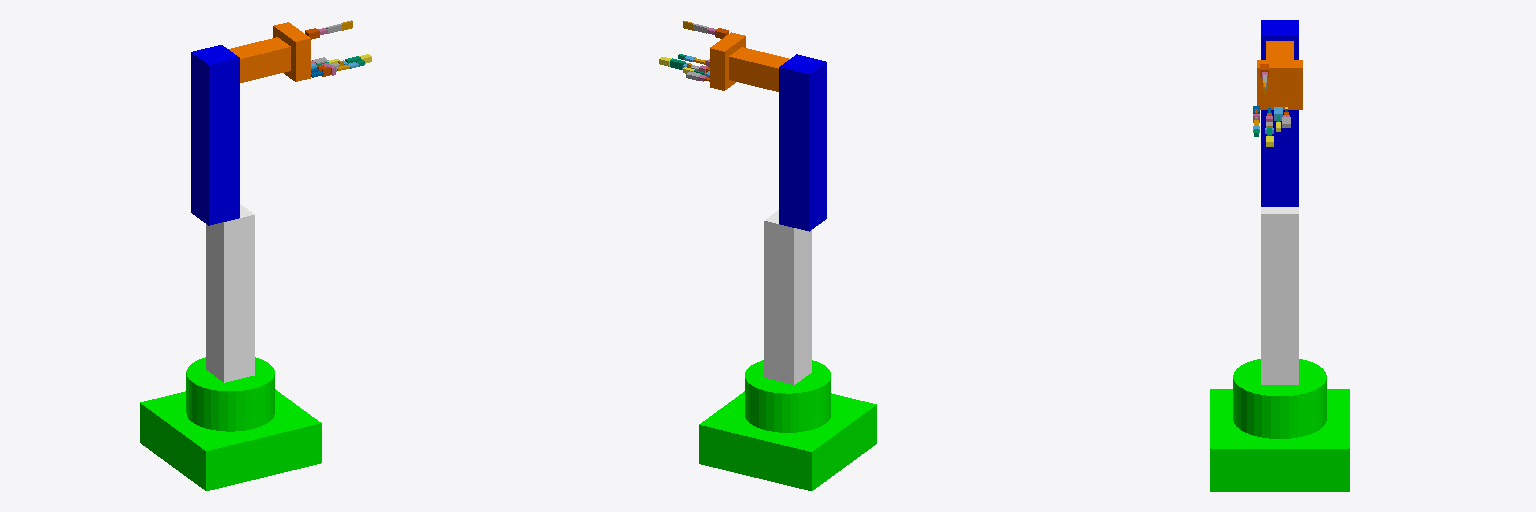
URDF robot description (robot):
<?xml version='1.0' encoding='utf-8'?>
<robot name="robot">
  <link name="base_link">
    <visual>
      <origin xyz="0 0 0.125" rpy="0 0 0" />
      <geometry>
        <box size="0.75 0.75 0.25" />
      </geometry>
      <material name="green" />
    </visual>
    <visual>
      <origin xyz="0 0 0.375" rpy="0 0 0" />
      <geometry>
        <cylinder length="0.25" radius="0.25" />
      </geometry>
      <material name="green">
        <color rgba="0 1 0 1" />
      </material>
    </visual>
    <collision>
      <geometry>
        <box size="0.75 0.75 0.5" />
      </geometry>
    </collision>
    <inertial>
      <mass value="0.5" />
      <inertia ixx="0.034" ixy="0.0" ixz="0.0" iyy="0.034" iyz="0.0" izz="0.034" />
    </inertial>
  </link>
  <link name="support_link">
    <visual>
      <origin xyz="0 0 0.5" rpy="0 0 0" />
      <geometry>
        <box size="0.2 0.2 1" />
      </geometry>
      <material name="white">
        <color rgba="1 1 1 1" />
      </material>
    </visual>
    <collision>
      <geometry>
        <box size="0.2 0.2 1" />
      </geometry>
    </collision>
    <inertial>
      <mass value="0.1" />
      <inertia ixx="0.01" ixy="0.0" ixz="0.0" iyy="0.01" iyz="0.0" izz="0.01" />
    </inertial>
  </link>
  <joint name="support_joint" type="continuous">
    <origin xyz="0 0 0.5" rpy="0 0 0" />
    <parent link="base_link" />
    <child link="support_link" />
    <axis xyz="0 0 1" />
  </joint>
  <link name="arm_link">
    <visual>
      <origin xyz="0 0 0.5" rpy="0 0 0" />
      <geometry>
        <box size="0.2 0.2 1" />
      </geometry>
      <material name="blue">
        <color rgba="0 0 1 1" />
      </material>
    </visual>
    <collision>
      <geometry>
        <box size="0.2 0.2 1" />
      </geometry>
    </collision>
    <inertial>
      <mass value="0.1" />
      <inertia ixx="0.01" ixy="0.0" ixz="0.0" iyy="0.01" iyz="0.0" izz="0.01" />
    </inertial>
  </link>
  <joint name="arm_joint" type="revolute">
    <origin xyz="-0.1 0 1" rpy="0 0 0" />
    <parent link="support_link" />
    <child link="arm_link" />
    <axis xyz="0 1 0" />
    <limit lower="-3.14" upper="3.14" effort="1.0" velocity="1.0" />
  </joint>
  <link name="wrist_link">
    <visual>
      <origin xyz="0 0 0.25" rpy="0 0 0" />
      <geometry>
        <box size="0.15 0.15 0.5" />
      </geometry>
      <material name="orange">
        <color rgba="1 0.5 0 1" />
      </material>
    </visual>
    <collision>
      <geometry>
        <box size="0.15 0.15 0.5" />
      </geometry>
    </collision>
    <inertial>
      <mass value="0.1" />
      <inertia ixx="0.01" ixy="0.0" ixz="0.0" iyy="0.01" iyz="0.0" izz="0.01" />
    </inertial>
  </link>
  <joint name="wrist_joint" type="fixed">
    <origin xyz="0 0 0.9" rpy="0 1.571 0" />
    <parent link="arm_link" />
    <child link="wrist_link" />
  </joint>
  <link name="palm_link">
    <visual>
      <origin xyz="0 0 0.05" rpy="0 0 0" />
      <geometry>
        <box size="0.25 0.25 0.1" />
      </geometry>
      <material name="orange" />
    </visual>
    <collision>
      <geometry>
        <box size="0.25 0.25 0.1" />
      </geometry>
    </collision>
    <inertial>
      <mass value="0.1" />
      <inertia ixx="0.01" ixy="0.0" ixz="0.0" iyy="0.01" iyz="0.0" izz="0.01" />
    </inertial>
  </link>
  <joint name="palm_joint" type="fixed">
    <origin xyz="0 0 0.45" rpy="0 0 0" />
    <parent link="wrist_link" />
    <child link="palm_link" />
  </joint>
  <link name="finger_link_0_0">
    <visual>
      <origin xyz="0 0 0.035" rpy="0 0 0" />
      <geometry>
        <box size="0.04 0.048 0.07" />
      </geometry>
    </visual>
    <collision>
      <geometry>
        <box size="0.04 0.048 0.07" />
      </geometry>
    </collision>
    <inertial>
      <mass value="0.04" />
      <inertia ixx="0.0" iyy="0.0" izz="0.0" ixy="0" ixz="0" iyz="0" />
    </inertial>
  </link>
  <joint name="finger_joint_palm_link_to_finger_link_0_0" type="revolute">
    <origin xyz="-0.125 -0.081 0.1" rpy="0 0 0" />
    <parent link="palm_link" />
    <child link="finger_link_0_0" />
    <axis xyz="0.0 -1.0 0.0" />
    <limit lower="-3.142" upper="3.142" effort="10" velocity="10" />
  </joint>
  <link name="finger_link_0_1">
    <visual>
      <origin xyz="0 0 0.0295" rpy="0 0 0" />
      <geometry>
        <box size="0.022 0.034 0.059" />
      </geometry>
    </visual>
    <collision>
      <geometry>
        <box size="0.022 0.034 0.059" />
      </geometry>
    </collision>
    <inertial>
      <mass value="0.013" />
      <inertia ixx="0.0" iyy="0.0" izz="0.0" ixy="0" ixz="0" iyz="0" />
    </inertial>
  </link>
  <joint name="finger_joint_finger_link_0_0_to_finger_link_0_1" type="revolute">
    <origin xyz="0.0 0.0 0.07" rpy="0 0 0" />
    <parent link="finger_link_0_0" />
    <child link="finger_link_0_1" />
    <axis xyz="1.0 0.0 0.0" />
    <limit lower="-3.142" upper="3.142" effort="10" velocity="10" />
  </joint>
  <link name="finger_link_0_2">
    <visual>
      <origin xyz="0 0 0.047" rpy="0 0 0" />
      <geometry>
        <box size="0.035 0.019 0.094" />
      </geometry>
    </visual>
    <collision>
      <geometry>
        <box size="0.035 0.019 0.094" />
      </geometry>
    </collision>
    <inertial>
      <mass value="0.019" />
      <inertia ixx="0.0" iyy="0.0" izz="0.0" ixy="0" ixz="0" iyz="0" />
    </inertial>
  </link>
  <joint name="finger_joint_finger_link_0_1_to_finger_link_0_2" type="revolute">
    <origin xyz="0.0 0.0 0.059" rpy="0 0 0" />
    <parent link="finger_link_0_1" />
    <child link="finger_link_0_2" />
    <axis xyz="1.0 0.0 0.0" />
    <limit lower="-3.142" upper="3.142" effort="10" velocity="10" />
  </joint>
  <link name="finger_link_0_3">
    <visual>
      <origin xyz="0 0 0.035" rpy="0 0 0" />
      <geometry>
        <box size="0.044 0.012 0.07" />
      </geometry>
    </visual>
    <collision>
      <geometry>
        <box size="0.044 0.012 0.07" />
      </geometry>
    </collision>
    <inertial>
      <mass value="0.011" />
      <inertia ixx="0.0" iyy="0.0" izz="0.0" ixy="0" ixz="0" iyz="0" />
    </inertial>
  </link>
  <joint name="finger_joint_finger_link_0_2_to_finger_link_0_3" type="revolute">
    <origin xyz="0.0 0.0 0.094" rpy="0 0 0" />
    <parent link="finger_link_0_2" />
    <child link="finger_link_0_3" />
    <axis xyz="1.0 0.0 0.0" />
    <limit lower="-3.142" upper="3.142" effort="10" velocity="10" />
  </joint>
  <link name="finger_link_1_0">
    <visual>
      <origin xyz="0 0 0.0475" rpy="0 0 0" />
      <geometry>
        <box size="0.041 0.044 0.095" />
      </geometry>
    </visual>
    <collision>
      <geometry>
        <box size="0.041 0.044 0.095" />
      </geometry>
    </collision>
    <inertial>
      <mass value="0.051" />
      <inertia ixx="0.0" iyy="0.0" izz="0.0" ixy="0" ixz="0" iyz="0" />
    </inertial>
  </link>
  <joint name="finger_joint_palm_link_to_finger_link_1_0" type="revolute">
    <origin xyz="0.125 -0.008 0.1" rpy="0 0 0" />
    <parent link="palm_link" />
    <child link="finger_link_1_0" />
    <axis xyz="0.0 1.0 0.0" />
    <limit lower="-3.142" upper="3.142" effort="10" velocity="10" />
  </joint>
  <link name="finger_link_1_1">
    <visual>
      <origin xyz="0 0 0.0425" rpy="0 0 0" />
      <geometry>
        <box size="0.024 0.012 0.085" />
      </geometry>
    </visual>
    <collision>
      <geometry>
        <box size="0.024 0.012 0.085" />
      </geometry>
    </collision>
    <inertial>
      <mass value="0.007" />
      <inertia ixx="0.0" iyy="0.0" izz="0.0" ixy="0" ixz="0" iyz="0" />
    </inertial>
  </link>
  <joint name="finger_joint_finger_link_1_0_to_finger_link_1_1" type="revolute">
    <origin xyz="0.0 0.0 0.095" rpy="0 0 0" />
    <parent link="finger_link_1_0" />
    <child link="finger_link_1_1" />
    <axis xyz="1.0 0.0 0.0" />
    <limit lower="-3.142" upper="3.142" effort="10" velocity="10" />
  </joint>
  <link name="finger_link_1_2">
    <visual>
      <origin xyz="0 0 0.034" rpy="0 0 0" />
      <geometry>
        <box size="0.026 0.027 0.068" />
      </geometry>
    </visual>
    <collision>
      <geometry>
        <box size="0.026 0.027 0.068" />
      </geometry>
    </collision>
    <inertial>
      <mass value="0.014" />
      <inertia ixx="0.0" iyy="0.0" izz="0.0" ixy="0" ixz="0" iyz="0" />
    </inertial>
  </link>
  <joint name="finger_joint_finger_link_1_1_to_finger_link_1_2" type="revolute">
    <origin xyz="0.0 0.0 0.085" rpy="0 0 0" />
    <parent link="finger_link_1_1" />
    <child link="finger_link_1_2" />
    <axis xyz="0.0 1.0 0.0" />
    <limit lower="-3.142" upper="3.142" effort="10" velocity="10" />
  </joint>
  <link name="finger_link_2_0">
    <visual>
      <origin xyz="0 0 0.0435" rpy="0 0 0" />
      <geometry>
        <box size="0.028 0.018 0.087" />
      </geometry>
    </visual>
    <collision>
      <geometry>
        <box size="0.028 0.018 0.087" />
      </geometry>
    </collision>
    <inertial>
      <mass value="0.013" />
      <inertia ixx="0.0" iyy="0.0" izz="0.0" ixy="0" ixz="0" iyz="0" />
    </inertial>
  </link>
  <joint name="finger_joint_palm_link_to_finger_link_2_0" type="revolute">
    <origin xyz="0.125 -0.055 0.1" rpy="0 0 0" />
    <parent link="palm_link" />
    <child link="finger_link_2_0" />
    <axis xyz="0.0 1.0 0.0" />
    <limit lower="-3.142" upper="3.142" effort="10" velocity="10" />
  </joint>
  <link name="finger_link_2_1">
    <visual>
      <origin xyz="0 0 0.018" rpy="0 0 0" />
      <geometry>
        <box size="0.045 0.026 0.036" />
      </geometry>
    </visual>
    <collision>
      <geometry>
        <box size="0.045 0.026 0.036" />
      </geometry>
    </collision>
    <inertial>
      <mass value="0.013" />
      <inertia ixx="0.0" iyy="0.0" izz="0.0" ixy="0" ixz="0" iyz="0" />
    </inertial>
  </link>
  <joint name="finger_joint_finger_link_2_0_to_finger_link_2_1" type="revolute">
    <origin xyz="0.0 0.0 0.087" rpy="0 0 0" />
    <parent link="finger_link_2_0" />
    <child link="finger_link_2_1" />
    <axis xyz="0.0 1.0 0.0" />
    <limit lower="-3.142" upper="3.142" effort="10" velocity="10" />
  </joint>
  <link name="finger_link_2_2">
    <visual>
      <origin xyz="0 0 0.02" rpy="0 0 0" />
      <geometry>
        <box size="0.047 0.037 0.04" />
      </geometry>
    </visual>
    <collision>
      <geometry>
        <box size="0.047 0.037 0.04" />
      </geometry>
    </collision>
    <inertial>
      <mass value="0.021" />
      <inertia ixx="0.0" iyy="0.0" izz="0.0" ixy="0" ixz="0" iyz="0" />
    </inertial>
  </link>
  <joint name="finger_joint_finger_link_2_1_to_finger_link_2_2" type="revolute">
    <origin xyz="0.0 0.0 0.036" rpy="0 0 0" />
    <parent link="finger_link_2_1" />
    <child link="finger_link_2_2" />
    <axis xyz="0.0 1.0 0.0" />
    <limit lower="-3.142" upper="3.142" effort="10" velocity="10" />
  </joint>
  <link name="finger_link_2_3">
    <visual>
      <origin xyz="0 0 0.031" rpy="0 0 0" />
      <geometry>
        <box size="0.021 0.035 0.062" />
      </geometry>
    </visual>
    <collision>
      <geometry>
        <box size="0.021 0.035 0.062" />
      </geometry>
    </collision>
    <inertial>
      <mass value="0.014" />
      <inertia ixx="0.0" iyy="0.0" izz="0.0" ixy="0" ixz="0" iyz="0" />
    </inertial>
  </link>
  <joint name="finger_joint_finger_link_2_2_to_finger_link_2_3" type="revolute">
    <origin xyz="0.0 0.0 0.04" rpy="0 0 0" />
    <parent link="finger_link_2_2" />
    <child link="finger_link_2_3" />
    <axis xyz="1.0 0.0 0.0" />
    <limit lower="-3.142" upper="3.142" effort="10" velocity="10" />
  </joint>
  <link name="finger_link_2_4">
    <visual>
      <origin xyz="0 0 0.0115" rpy="0 0 0" />
      <geometry>
        <box size="0.043 0.018 0.023" />
      </geometry>
    </visual>
    <collision>
      <geometry>
        <box size="0.043 0.018 0.023" />
      </geometry>
    </collision>
    <inertial>
      <mass value="0.005" />
      <inertia ixx="0.0" iyy="0.0" izz="0.0" ixy="0" ixz="0" iyz="0" />
    </inertial>
  </link>
  <joint name="finger_joint_finger_link_2_3_to_finger_link_2_4" type="revolute">
    <origin xyz="0.0 0.0 0.062" rpy="0 0 0" />
    <parent link="finger_link_2_3" />
    <child link="finger_link_2_4" />
    <axis xyz="0.0 1.0 0.0" />
    <limit lower="-3.142" upper="3.142" effort="10" velocity="10" />
  </joint>
  <link name="finger_link_2_5">
    <visual>
      <origin xyz="0 0 0.011" rpy="0 0 0" />
      <geometry>
        <box size="0.024 0.048 0.022" />
      </geometry>
    </visual>
    <collision>
      <geometry>
        <box size="0.024 0.048 0.022" />
      </geometry>
    </collision>
    <inertial>
      <mass value="0.008" />
      <inertia ixx="0.0" iyy="0.0" izz="0.0" ixy="0" ixz="0" iyz="0" />
    </inertial>
  </link>
  <joint name="finger_joint_finger_link_2_4_to_finger_link_2_5" type="revolute">
    <origin xyz="0.0 0.0 0.023" rpy="0 0 0" />
    <parent link="finger_link_2_4" />
    <child link="finger_link_2_5" />
    <axis xyz="0.0 1.0 0.0" />
    <limit lower="-3.142" upper="3.142" effort="10" velocity="10" />
  </joint>
  <link name="finger_link_2_6">
    <visual>
      <origin xyz="0 0 0.0445" rpy="0 0 0" />
      <geometry>
        <box size="0.044 0.03 0.089" />
      </geometry>
    </visual>
    <collision>
      <geometry>
        <box size="0.044 0.03 0.089" />
      </geometry>
    </collision>
    <inertial>
      <mass value="0.035" />
      <inertia ixx="0.0" iyy="0.0" izz="0.0" ixy="0" ixz="0" iyz="0" />
    </inertial>
  </link>
  <joint name="finger_joint_finger_link_2_5_to_finger_link_2_6" type="revolute">
    <origin xyz="0.0 0.0 0.022" rpy="0 0 0" />
    <parent link="finger_link_2_5" />
    <child link="finger_link_2_6" />
    <axis xyz="1.0 0.0 0.0" />
    <limit lower="-3.142" upper="3.142" effort="10" velocity="10" />
  </joint>
  <link name="finger_link_2_7">
    <visual>
      <origin xyz="0 0 0.0345" rpy="0 0 0" />
      <geometry>
        <box size="0.033 0.041 0.069" />
      </geometry>
    </visual>
    <collision>
      <geometry>
        <box size="0.033 0.041 0.069" />
      </geometry>
    </collision>
    <inertial>
      <mass value="0.028" />
      <inertia ixx="0.0" iyy="0.0" izz="0.0" ixy="0" ixz="0" iyz="0" />
    </inertial>
  </link>
  <joint name="finger_joint_finger_link_2_6_to_finger_link_2_7" type="revolute">
    <origin xyz="0.0 0.0 0.089" rpy="0 0 0" />
    <parent link="finger_link_2_6" />
    <child link="finger_link_2_7" />
    <axis xyz="0.0 1.0 0.0" />
    <limit lower="-3.142" upper="3.142" effort="10" velocity="10" />
  </joint>
  <link name="finger_link_3_0">
    <visual>
      <origin xyz="0 0 0.038" rpy="0 0 0" />
      <geometry>
        <box size="0.014 0.034 0.076" />
      </geometry>
    </visual>
    <collision>
      <geometry>
        <box size="0.014 0.034 0.076" />
      </geometry>
    </collision>
    <inertial>
      <mass value="0.011" />
      <inertia ixx="0.0" iyy="0.0" izz="0.0" ixy="0" ixz="0" iyz="0" />
    </inertial>
  </link>
  <joint name="finger_joint_palm_link_to_finger_link_3_0" type="revolute">
    <origin xyz="0.108 -0.125 0.1" rpy="0 0 0" />
    <parent link="palm_link" />
    <child link="finger_link_3_0" />
    <axis xyz="1.0 0.0 0.0" />
    <limit lower="-3.142" upper="3.142" effort="10" velocity="10" />
  </joint>
  <link name="finger_link_3_1">
    <visual>
      <origin xyz="0 0 0.0255" rpy="0 0 0" />
      <geometry>
        <box size="0.049 0.011 0.051" />
      </geometry>
    </visual>
    <collision>
      <geometry>
        <box size="0.049 0.011 0.051" />
      </geometry>
    </collision>
    <inertial>
      <mass value="0.008" />
      <inertia ixx="0.0" iyy="0.0" izz="0.0" ixy="0" ixz="0" iyz="0" />
    </inertial>
  </link>
  <joint name="finger_joint_finger_link_3_0_to_finger_link_3_1" type="revolute">
    <origin xyz="0.0 0.0 0.076" rpy="0 0 0" />
    <parent link="finger_link_3_0" />
    <child link="finger_link_3_1" />
    <axis xyz="1.0 0.0 0.0" />
    <limit lower="-3.142" upper="3.142" effort="10" velocity="10" />
  </joint>
  <link name="finger_link_3_2">
    <visual>
      <origin xyz="0 0 0.013" rpy="0 0 0" />
      <geometry>
        <box size="0.044 0.041 0.026" />
      </geometry>
    </visual>
    <collision>
      <geometry>
        <box size="0.044 0.041 0.026" />
      </geometry>
    </collision>
    <inertial>
      <mass value="0.014" />
      <inertia ixx="0.0" iyy="0.0" izz="0.0" ixy="0" ixz="0" iyz="0" />
    </inertial>
  </link>
  <joint name="finger_joint_finger_link_3_1_to_finger_link_3_2" type="revolute">
    <origin xyz="0.0 0.0 0.051" rpy="0 0 0" />
    <parent link="finger_link_3_1" />
    <child link="finger_link_3_2" />
    <axis xyz="1.0 0.0 0.0" />
    <limit lower="-3.142" upper="3.142" effort="10" velocity="10" />
  </joint>
  <link name="finger_link_3_3">
    <visual>
      <origin xyz="0 0 0.008" rpy="0 0 0" />
      <geometry>
        <box size="0.03 0.011 0.016" />
      </geometry>
    </visual>
    <collision>
      <geometry>
        <box size="0.03 0.011 0.016" />
      </geometry>
    </collision>
    <inertial>
      <mass value="0.002" />
      <inertia ixx="0.0" iyy="0.0" izz="0.0" ixy="0" ixz="0" iyz="0" />
    </inertial>
  </link>
  <joint name="finger_joint_finger_link_3_2_to_finger_link_3_3" type="revolute">
    <origin xyz="0.0 0.0 0.026" rpy="0 0 0" />
    <parent link="finger_link_3_2" />
    <child link="finger_link_3_3" />
    <axis xyz="0.0 1.0 0.0" />
    <limit lower="-3.142" upper="3.142" effort="10" velocity="10" />
  </joint>
  <link name="finger_link_3_4">
    <visual>
      <origin xyz="0 0 0.039" rpy="0 0 0" />
      <geometry>
        <box size="0.012 0.029 0.078" />
      </geometry>
    </visual>
    <collision>
      <geometry>
        <box size="0.012 0.029 0.078" />
      </geometry>
    </collision>
    <inertial>
      <mass value="0.008" />
      <inertia ixx="0.0" iyy="0.0" izz="0.0" ixy="0" ixz="0" iyz="0" />
    </inertial>
  </link>
  <joint name="finger_joint_finger_link_3_3_to_finger_link_3_4" type="revolute">
    <origin xyz="0.0 0.0 0.016" rpy="0 0 0" />
    <parent link="finger_link_3_3" />
    <child link="finger_link_3_4" />
    <axis xyz="1.0 0.0 0.0" />
    <limit lower="-3.142" upper="3.142" effort="10" velocity="10" />
  </joint>
  <link name="finger_link_3_5">
    <visual>
      <origin xyz="0 0 0.0275" rpy="0 0 0" />
      <geometry>
        <box size="0.014 0.04 0.055" />
      </geometry>
    </visual>
    <collision>
      <geometry>
        <box size="0.014 0.04 0.055" />
      </geometry>
    </collision>
    <inertial>
      <mass value="0.009" />
      <inertia ixx="0.0" iyy="0.0" izz="0.0" ixy="0" ixz="0" iyz="0" />
    </inertial>
  </link>
  <joint name="finger_joint_finger_link_3_4_to_finger_link_3_5" type="revolute">
    <origin xyz="0.0 0.0 0.078" rpy="0 0 0" />
    <parent link="finger_link_3_4" />
    <child link="finger_link_3_5" />
    <axis xyz="0.0 1.0 0.0" />
    <limit lower="-3.142" upper="3.142" effort="10" velocity="10" />
  </joint>
  <link name="finger_link_3_6">
    <visual>
      <origin xyz="0 0 0.0235" rpy="0 0 0" />
      <geometry>
        <box size="0.023 0.022 0.047" />
      </geometry>
    </visual>
    <collision>
      <geometry>
        <box size="0.023 0.022 0.047" />
      </geometry>
    </collision>
    <inertial>
      <mass value="0.007" />
      <inertia ixx="0.0" iyy="0.0" izz="0.0" ixy="0" ixz="0" iyz="0" />
    </inertial>
  </link>
  <joint name="finger_joint_finger_link_3_5_to_finger_link_3_6" type="revolute">
    <origin xyz="0.0 0.0 0.055" rpy="0 0 0" />
    <parent link="finger_link_3_5" />
    <child link="finger_link_3_6" />
    <axis xyz="0.0 1.0 0.0" />
    <limit lower="-3.142" upper="3.142" effort="10" velocity="10" />
  </joint>
  <link name="finger_link_4_0">
    <visual>
      <origin xyz="0 0 0.0125" rpy="0 0 0" />
      <geometry>
        <box size="0.037 0.018 0.025" />
      </geometry>
    </visual>
    <collision>
      <geometry>
        <box size="0.037 0.018 0.025" />
      </geometry>
    </collision>
    <inertial>
      <mass value="0.005" />
      <inertia ixx="0.0" iyy="0.0" izz="0.0" ixy="0" ixz="0" iyz="0" />
    </inertial>
  </link>
  <joint name="finger_joint_palm_link_to_finger_link_4_0" type="revolute">
    <origin xyz="0.125 0.035 0.1" rpy="0 0 0" />
    <parent link="palm_link" />
    <child link="finger_link_4_0" />
    <axis xyz="0.0 1.0 0.0" />
    <limit lower="-3.142" upper="3.142" effort="10" velocity="10" />
  </joint>
  <link name="finger_link_4_1">
    <visual>
      <origin xyz="0 0 0.006" rpy="0 0 0" />
      <geometry>
        <box size="0.043 0.018 0.012" />
      </geometry>
    </visual>
    <collision>
      <geometry>
        <box size="0.043 0.018 0.012" />
      </geometry>
    </collision>
    <inertial>
      <mass value="0.003" />
      <inertia ixx="0.0" iyy="0.0" izz="0.0" ixy="0" ixz="0" iyz="0" />
    </inertial>
  </link>
  <joint name="finger_joint_finger_link_4_0_to_finger_link_4_1" type="revolute">
    <origin xyz="0.0 0.0 0.025" rpy="0 0 0" />
    <parent link="finger_link_4_0" />
    <child link="finger_link_4_1" />
    <axis xyz="0.0 1.0 0.0" />
    <limit lower="-3.142" upper="3.142" effort="10" velocity="10" />
  </joint>
  <link name="finger_link_4_2">
    <visual>
      <origin xyz="0 0 0.0215" rpy="0 0 0" />
      <geometry>
        <box size="0.011 0.024 0.043" />
      </geometry>
    </visual>
    <collision>
      <geometry>
        <box size="0.011 0.024 0.043" />
      </geometry>
    </collision>
    <inertial>
      <mass value="0.003" />
      <inertia ixx="0.0" iyy="0.0" izz="0.0" ixy="0" ixz="0" iyz="0" />
    </inertial>
  </link>
  <joint name="finger_joint_finger_link_4_1_to_finger_link_4_2" type="revolute">
    <origin xyz="0.0 0.0 0.012" rpy="0 0 0" />
    <parent link="finger_link_4_1" />
    <child link="finger_link_4_2" />
    <axis xyz="0.0 1.0 0.0" />
    <limit lower="-3.142" upper="3.142" effort="10" velocity="10" />
  </joint>
  <link name="finger_link_4_3">
    <visual>
      <origin xyz="0 0 0.018" rpy="0 0 0" />
      <geometry>
        <box size="0.021 0.04 0.036" />
      </geometry>
    </visual>
    <collision>
      <geometry>
        <box size="0.021 0.04 0.036" />
      </geometry>
    </collision>
    <inertial>
      <mass value="0.009" />
      <inertia ixx="0.0" iyy="0.0" izz="0.0" ixy="0" ixz="0" iyz="0" />
    </inertial>
  </link>
  <joint name="finger_joint_finger_link_4_2_to_finger_link_4_3" type="revolute">
    <origin xyz="0.0 0.0 0.043" rpy="0 0 0" />
    <parent link="finger_link_4_2" />
    <child link="finger_link_4_3" />
    <axis xyz="1.0 0.0 0.0" />
    <limit lower="-3.142" upper="3.142" effort="10" velocity="10" />
  </joint>
  <link name="finger_link_4_4">
    <visual>
      <origin xyz="0 0 0.039" rpy="0 0 0" />
      <geometry>
        <box size="0.025 0.047 0.078" />
      </geometry>
    </visual>
    <collision>
      <geometry>
        <box size="0.025 0.047 0.078" />
      </geometry>
    </collision>
    <inertial>
      <mass value="0.027" />
      <inertia ixx="0.0" iyy="0.0" izz="0.0" ixy="0" ixz="0" iyz="0" />
    </inertial>
  </link>
  <joint name="finger_joint_finger_link_4_3_to_finger_link_4_4" type="revolute">
    <origin xyz="0.0 0.0 0.036" rpy="0 0 0" />
    <parent link="finger_link_4_3" />
    <child link="finger_link_4_4" />
    <axis xyz="0.0 1.0 0.0" />
    <limit lower="-3.142" upper="3.142" effort="10" velocity="10" />
  </joint>
</robot>

--- Render facts (derived) ---
Views: 3 orthographic renders of the robot side by side, from view 1: azimuth 30°, elevation 25°; view 2: azimuth 150°, elevation 25°; view 3: azimuth 270°, elevation 25°.
Robot: robot — 32 links, 31 joints (28 revolute, 1 continuous, 2 fixed); root link base_link; default pose: every joint at zero.
Links seen in each view (by area): view 1: base_link, arm_link, support_link, wrist_link, palm_link; view 2: base_link, arm_link, support_link, wrist_link, palm_link; view 3: base_link, support_link, arm_link, palm_link, wrist_link.
Link boxes in pixels (x1=…): base_link: x1=140, y1=357, x2=321, y2=490; arm_link: x1=191, y1=45, x2=239, y2=225; support_link: x1=206, y1=204, x2=254, y2=382; wrist_link: x1=229, y1=37, x2=290, y2=82; palm_link: x1=273, y1=22, x2=310, y2=81; base_link: x1=699, y1=360, x2=876, y2=490; arm_link: x1=779, y1=54, x2=826, y2=231; support_link: x1=764, y1=210, x2=811, y2=384; wrist_link: x1=729, y1=47, x2=789, y2=91; palm_link: x1=710, y1=32, x2=745, y2=90; base_link: x1=1210, y1=359, x2=1349, y2=491; support_link: x1=1261, y1=207, x2=1298, y2=384; arm_link: x1=1261, y1=20, x2=1298, y2=206; palm_link: x1=1257, y1=60, x2=1302, y2=109; wrist_link: x1=1266, y1=41, x2=1293, y2=59.
Bounding box of the posed robot: 1.25 × 0.75 × 2.55 m (x, y, z).
Geometry: primitives only (box / cylinder / sphere), no mesh files.
